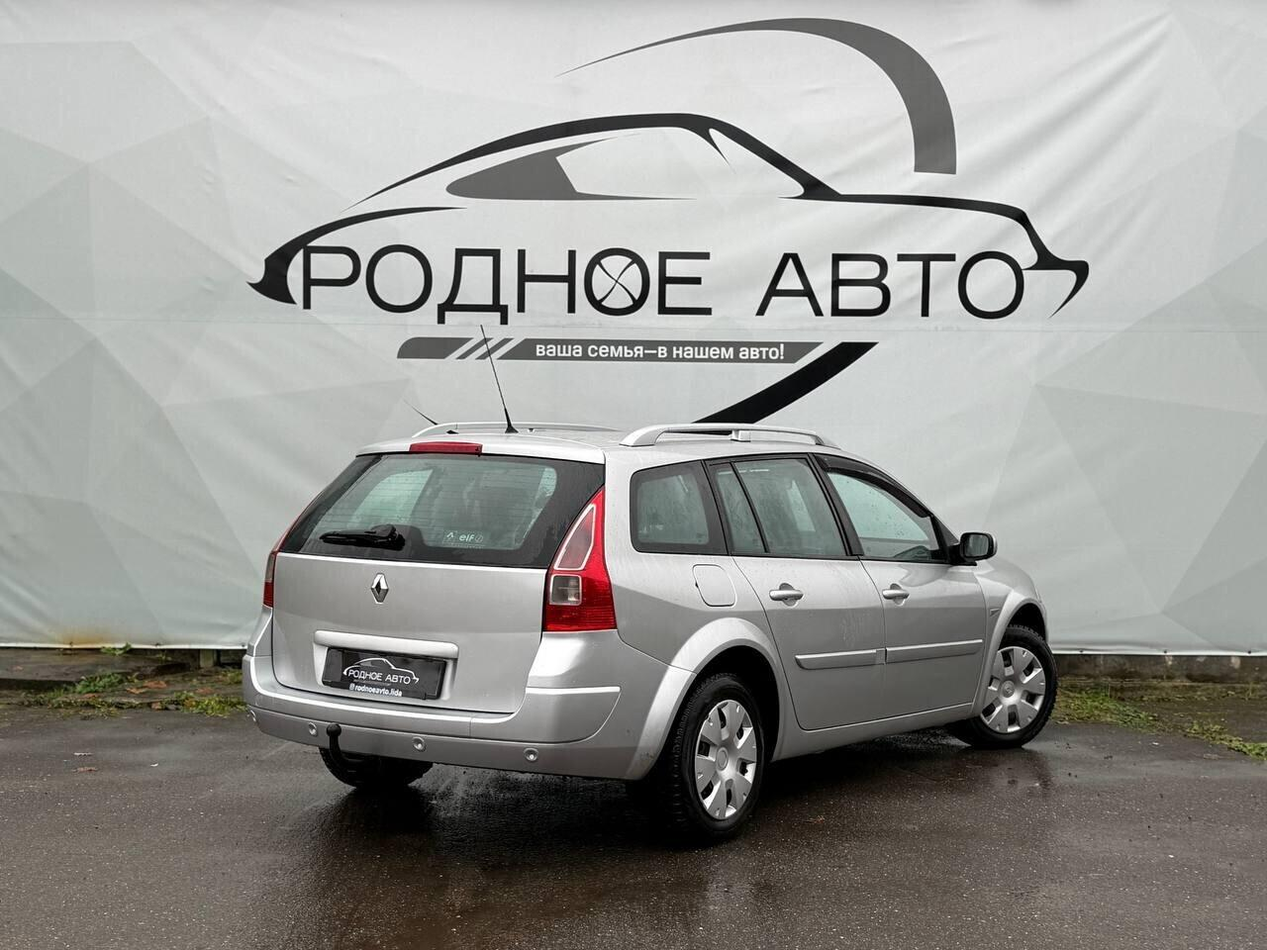Megane_2005-2009: (244, 419, 1065, 839)
